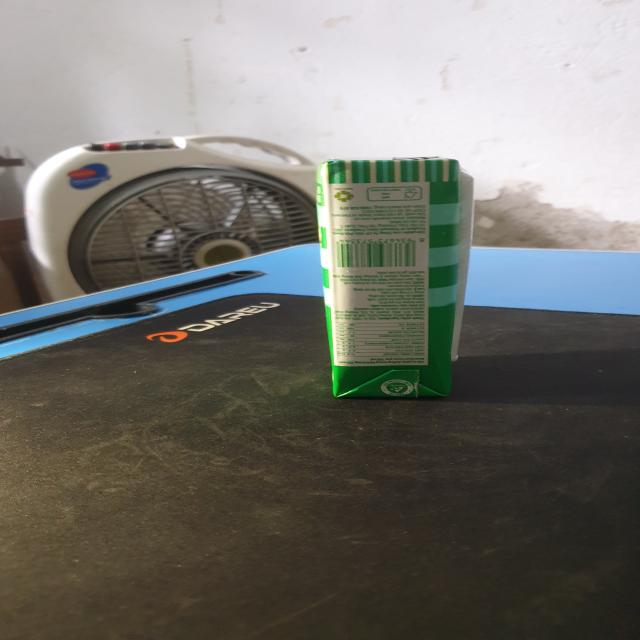Vina: (309, 155, 482, 406)
